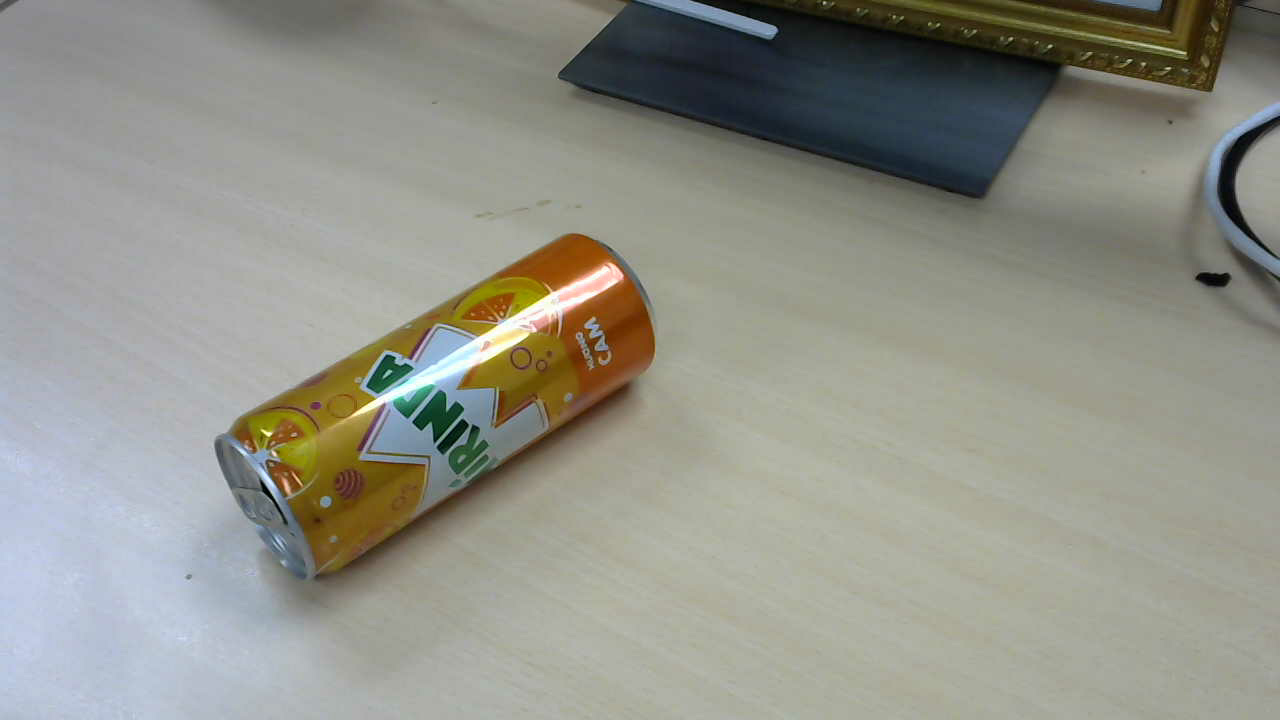Mirinda: (222, 240, 662, 587)
